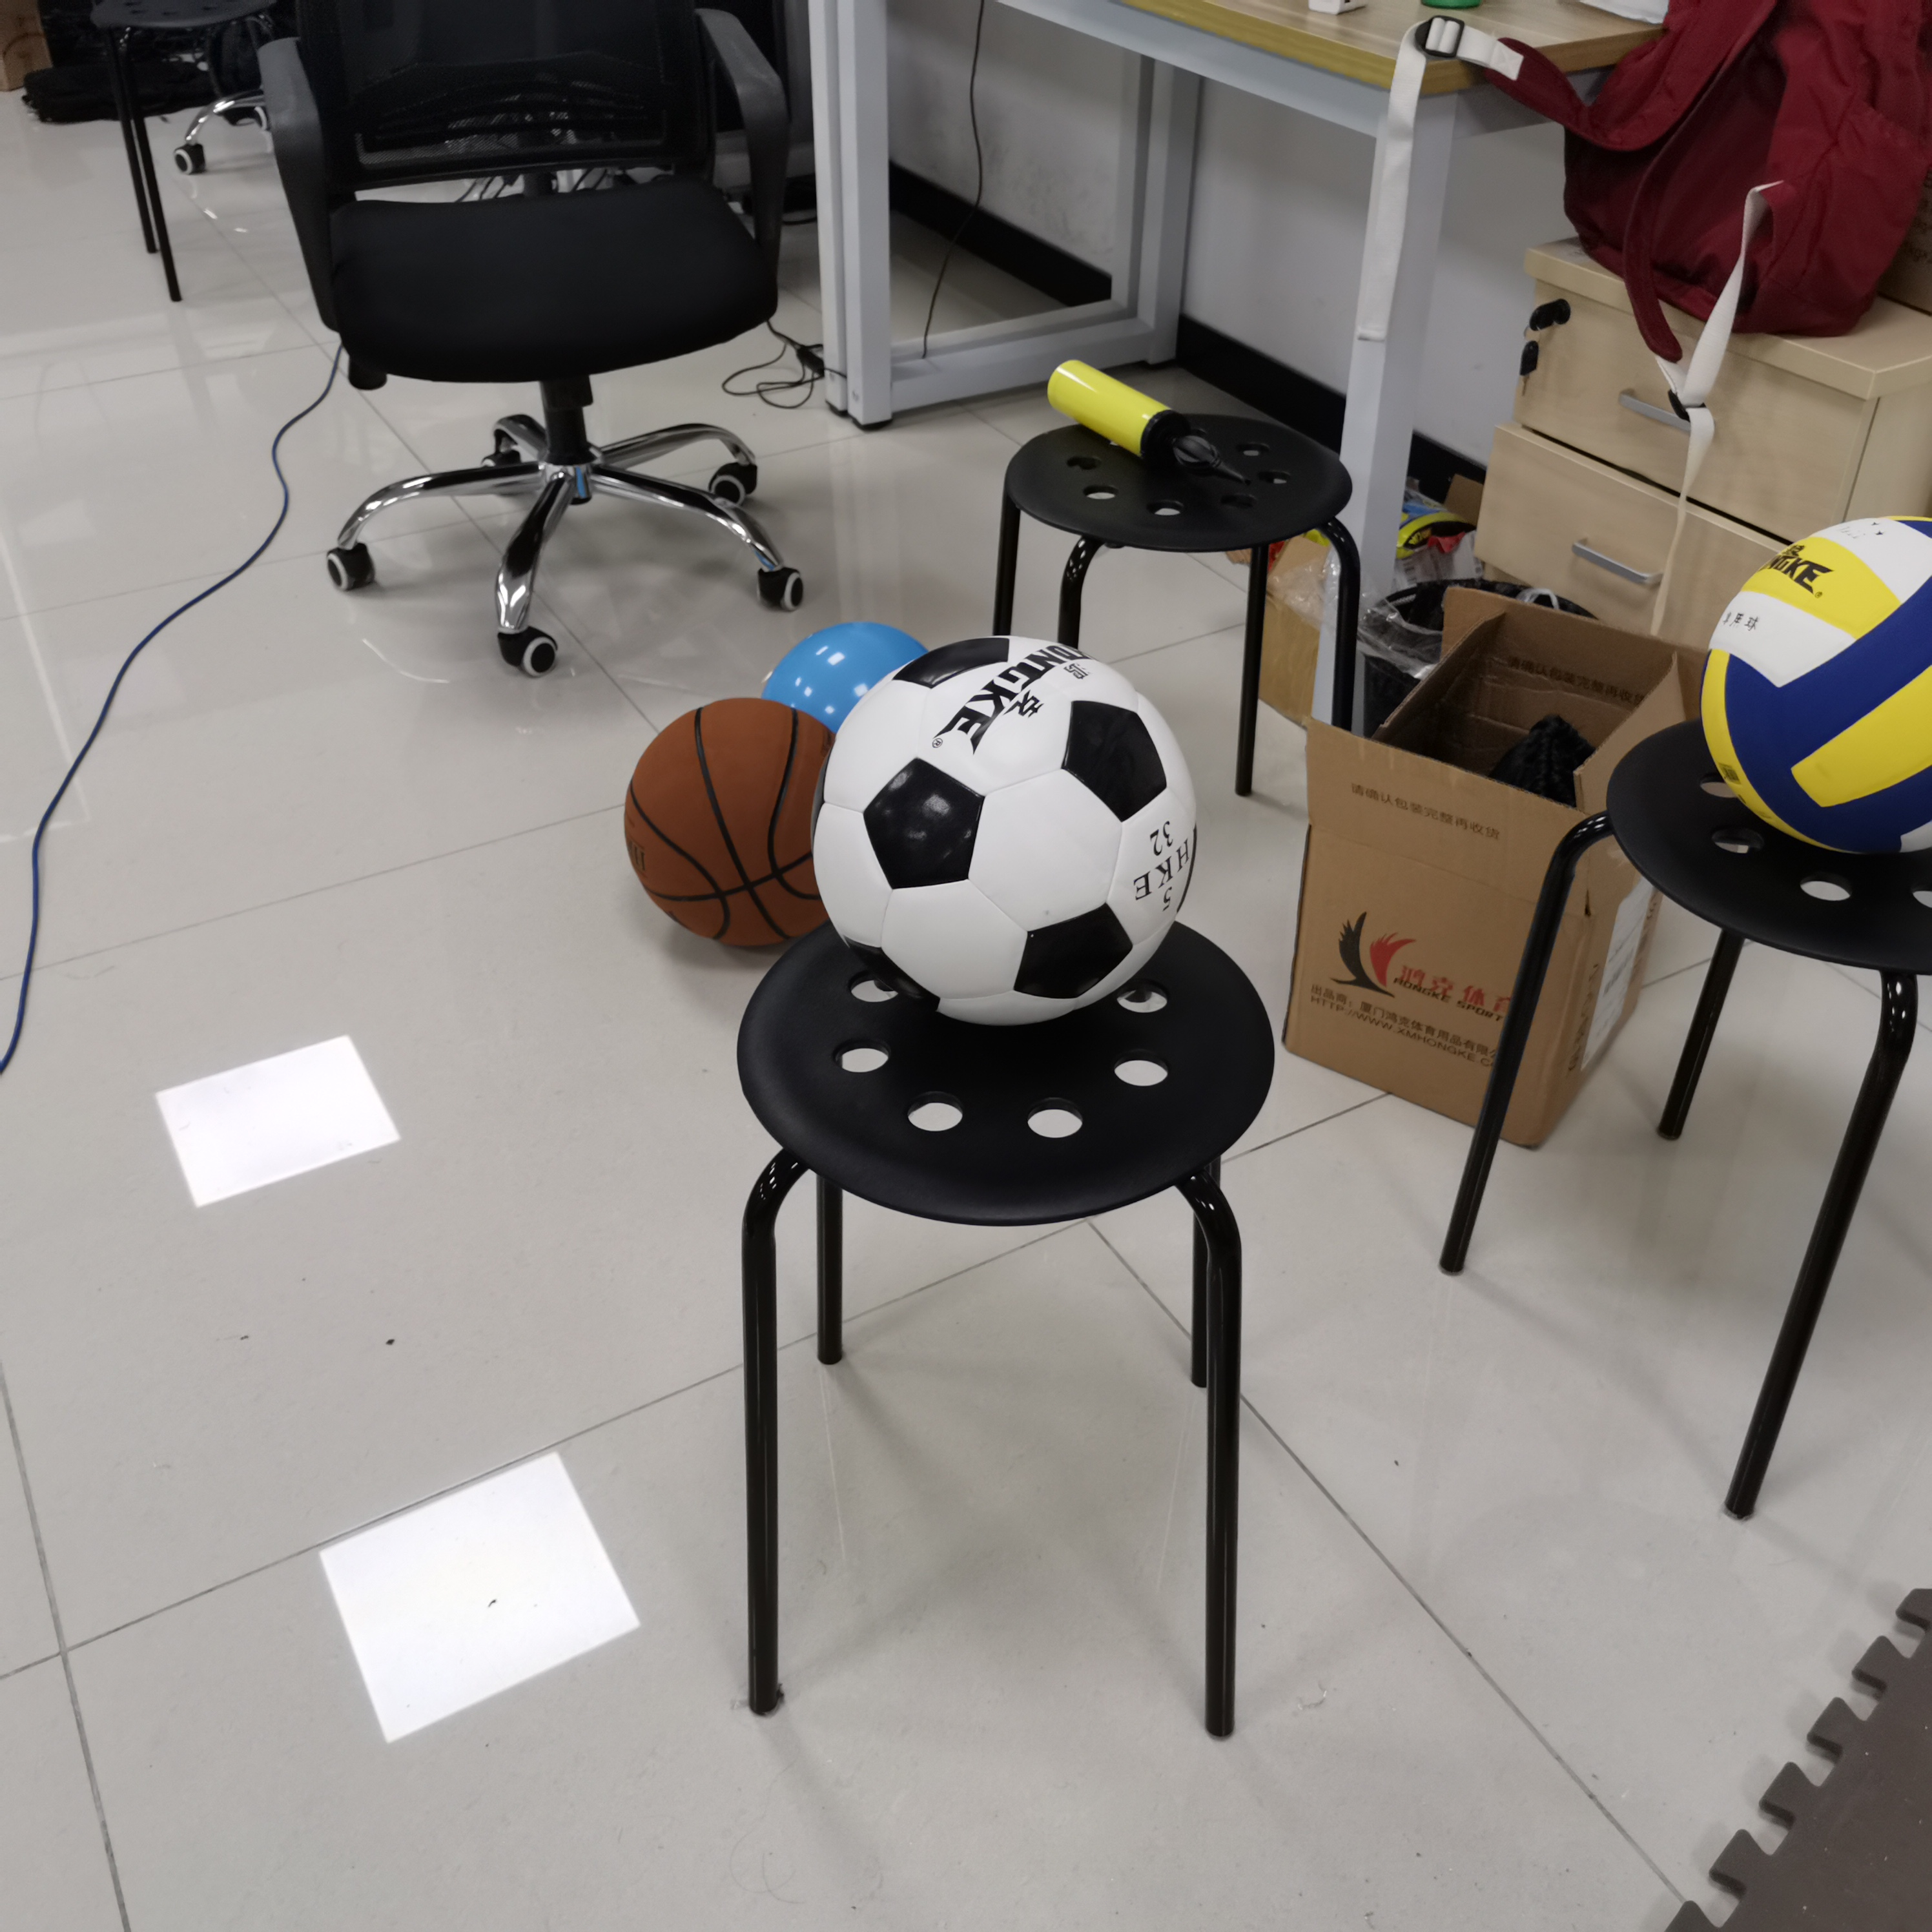balloon: (761, 625, 924, 709)
basketball: (621, 702, 814, 950)
football: (814, 639, 1203, 1028)
volleyball: (1702, 517, 1928, 858)
